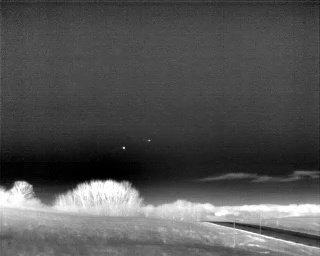BIRD: (121, 144, 127, 152)
